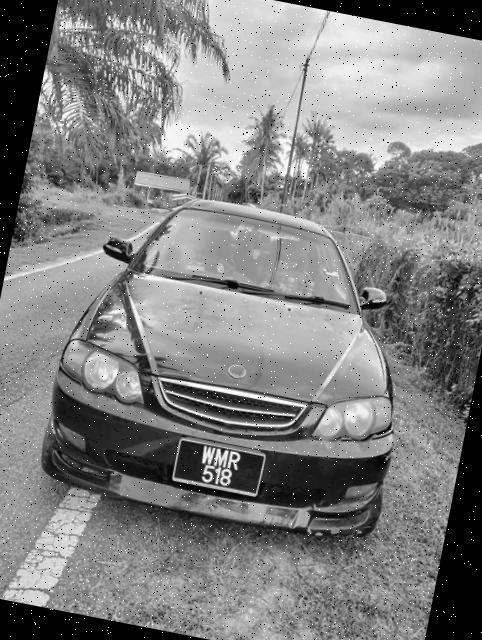License_Plate: (172, 438, 264, 496)
car: (29, 169, 436, 556)
